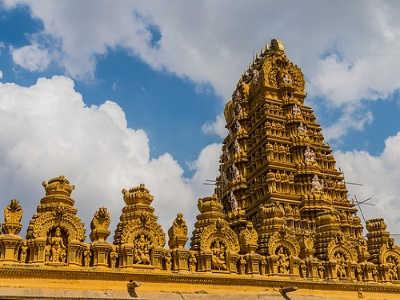gopura: (196, 60, 374, 226)
